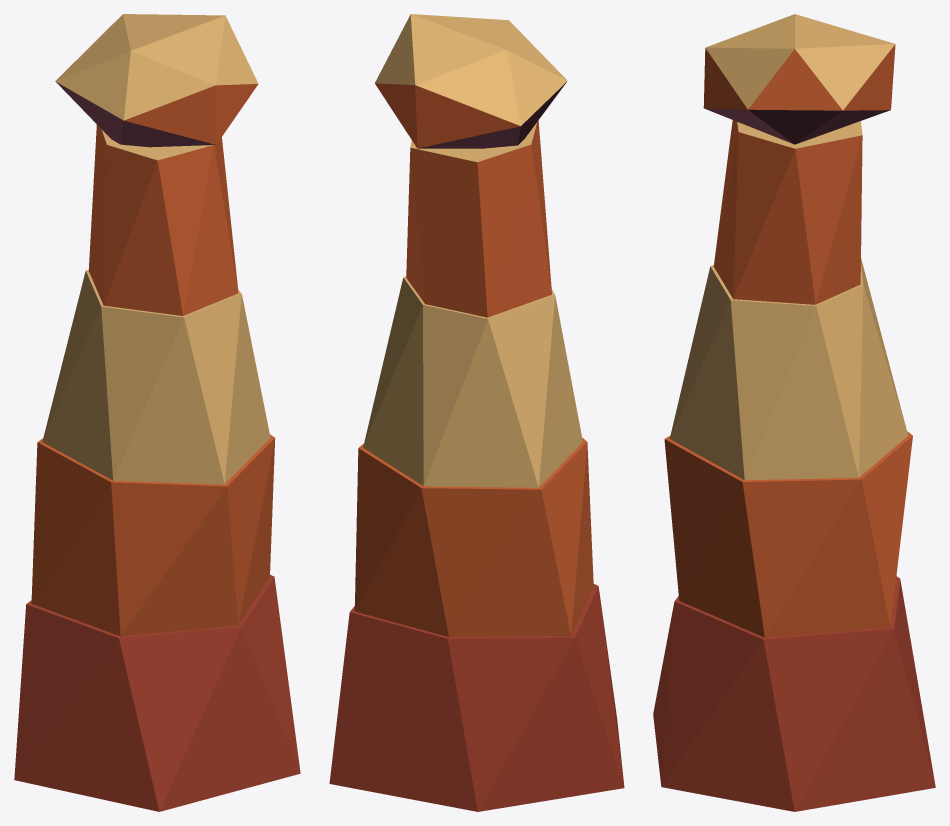
Rendered from Rock_Spire_A.fbx.
3 renders of one model, left to right at view 1: azimuth 30°, elevation 25°; view 2: azimuth 150°, elevation 25°; view 3: azimuth 270°, elevation 25°, orthographic. The views are drawn at different scales.
Visible parts, largest first — view 1: Rock_Spire_A; view 2: Rock_Spire_A; view 3: Rock_Spire_A.
Part boxes in pixels (x1,y1,x2,y2): Rock_Spire_A: [14, 14, 300, 811]; Rock_Spire_A: [329, 14, 624, 811]; Rock_Spire_A: [653, 14, 935, 811].
Bounding box in the file's own units: 2.42 × 6.08 × 2.12.
